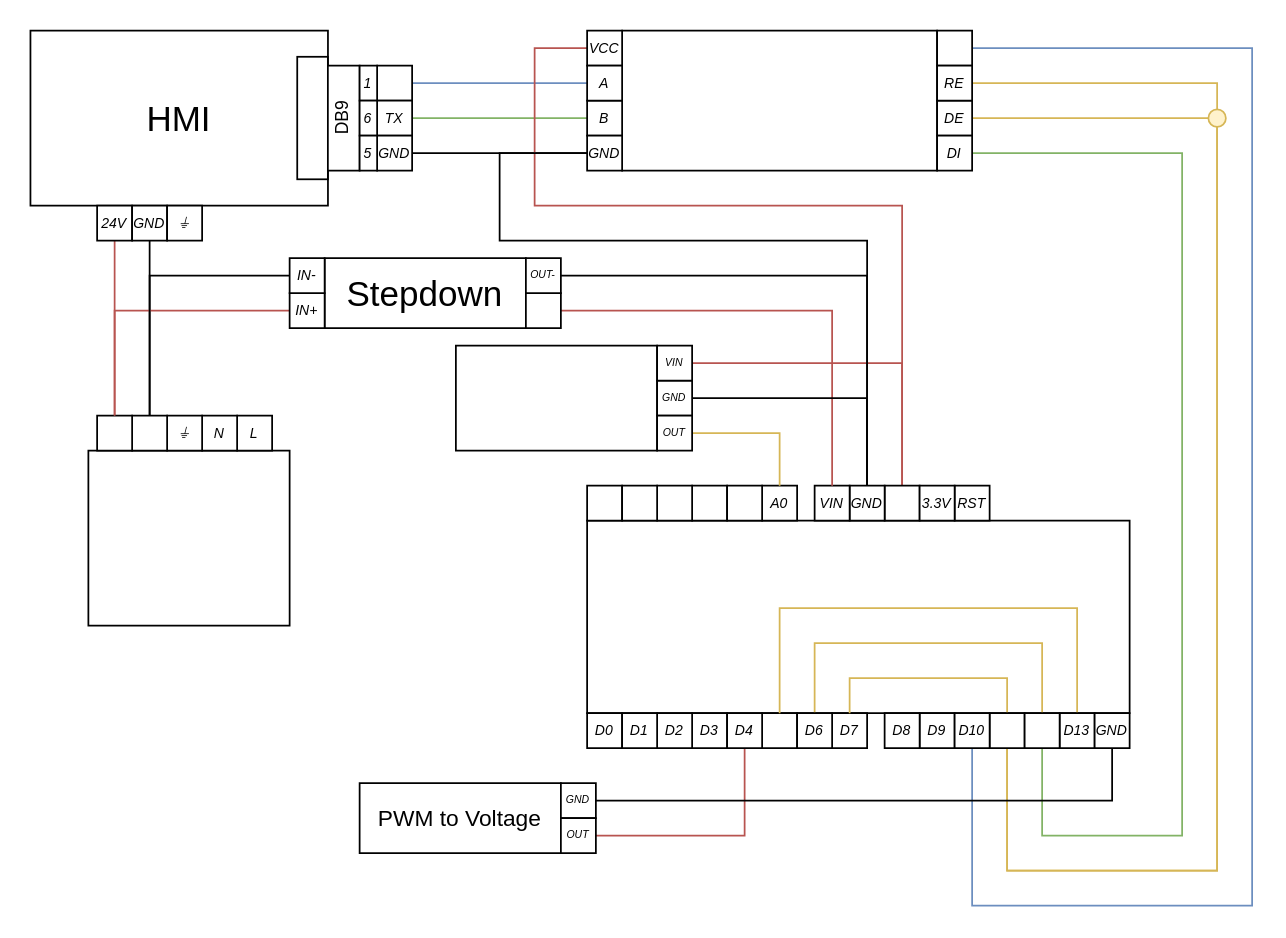
Some shapes in this 1286 by 938 pixel diagram are drawn without their labels. Here are the shapes that lost their labels. From the top down, the box of each, then its label:
(935, 29, 972, 66): RO
(375, 64, 412, 101): RX
(620, 29, 937, 171): MAX485
(296, 55, 328, 179): COM1
(524, 291, 561, 328): OUT+
(454, 344, 657, 451): DO Sensor
(95, 414, 132, 451): V+
(130, 414, 167, 451): V-
(883, 484, 920, 521): 5V
(87, 449, 290, 626): PSU 24V
(585, 519, 1130, 713): Wemos D1 R1 Uno
(760, 711, 797, 748): D5
(988, 711, 1025, 748): D11
(1023, 711, 1060, 748): D12
